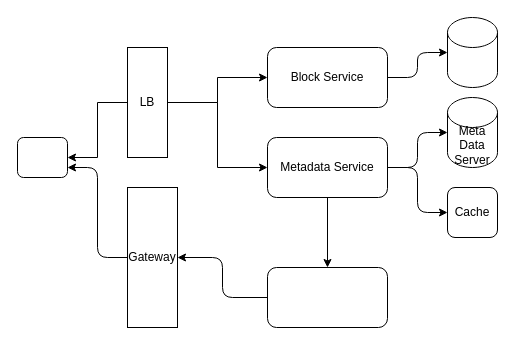
The diagram is 515 pixels wide and 345 high, and some of its shapes have lost their labels. Each missing label, with the centre of its shape:
"Block Store" goes at (x=472, y=52).
"Client" goes at (x=42, y=157).
"Notification Service" goes at (x=327, y=297).
